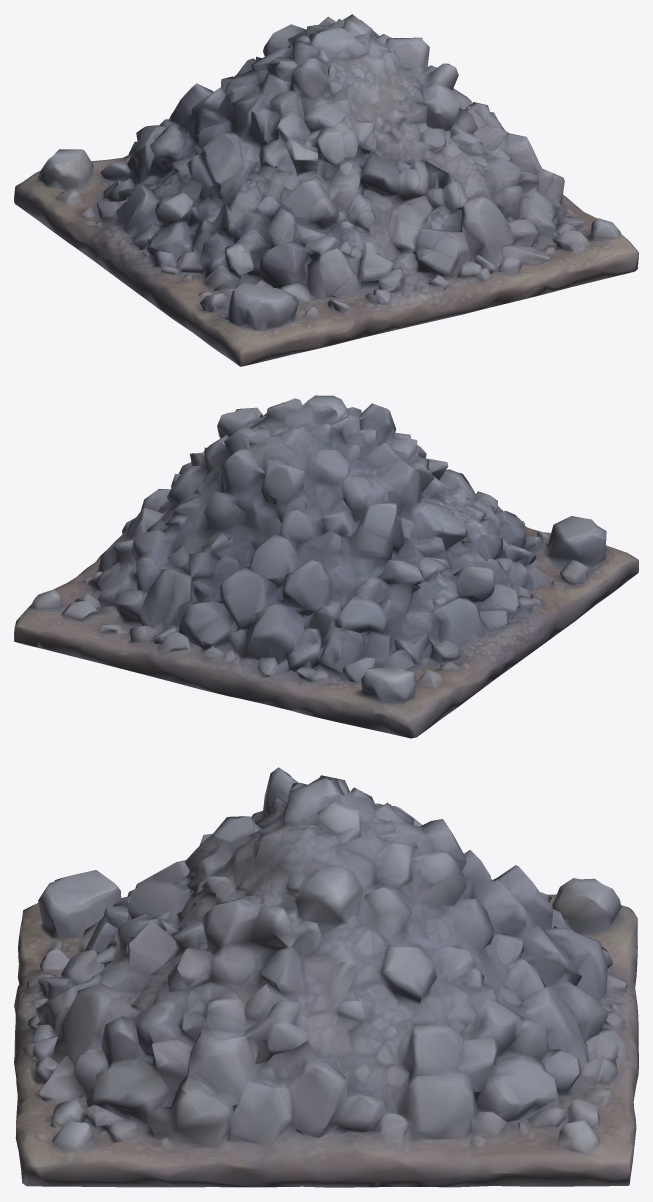
File: mining_site_rock_heap.glb
3 renders of one model, top to bottom at view 1: azimuth 30°, elevation 25°; view 2: azimuth 150°, elevation 25°; view 3: azimuth 270°, elevation 25°, orthographic. The views are drawn at different scales.
Visible parts, largest first — view 1: tripo_node_39bf833c-ac2e-44b0-82e4-439020263b34; view 2: tripo_node_39bf833c-ac2e-44b0-82e4-439020263b34; view 3: tripo_node_39bf833c-ac2e-44b0-82e4-439020263b34.
Boxes of the visible parts, x1=… form: tripo_node_39bf833c-ac2e-44b0-82e4-439020263b34: x1=14, y1=14, x2=638, y2=366; tripo_node_39bf833c-ac2e-44b0-82e4-439020263b34: x1=14, y1=395, x2=638, y2=738; tripo_node_39bf833c-ac2e-44b0-82e4-439020263b34: x1=14, y1=767, x2=638, y2=1187.
Size of the model in its own units: 1 by 0.4761 by 0.9891.
Materials: 1 (1 with a texture image).
